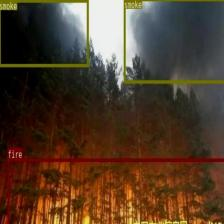fire: (7, 158, 224, 224)
smoke: (123, 0, 224, 83), (0, 0, 88, 66)
